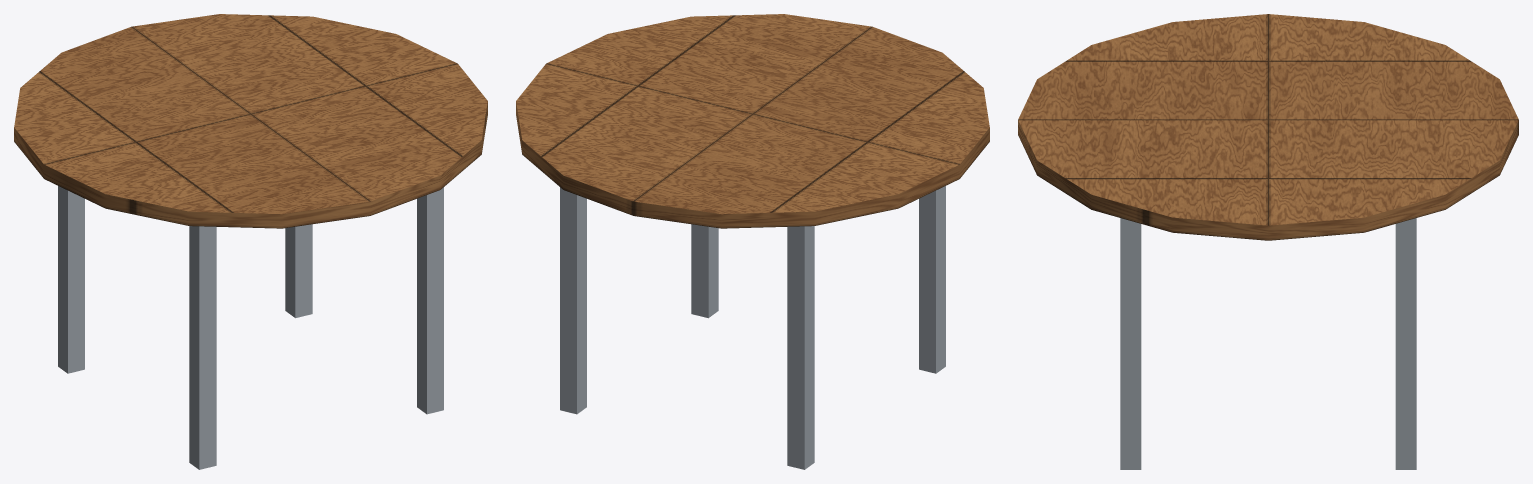
File: Kerti_asztal_kerek.obj
3 renders of one model, left to right at view 1: azimuth 30°, elevation 25°; view 2: azimuth 150°, elevation 25°; view 3: azimuth 270°, elevation 25°, orthographic. The views are drawn at different scales.
Bounding box in the file's own units: 1.2 × 0.76 × 1.2.
2 materials, 1 textured.
